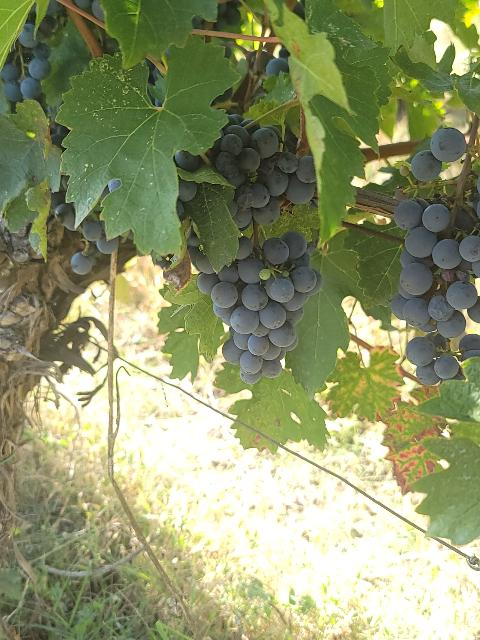grapes: (188, 231, 322, 384), (391, 200, 480, 385)
